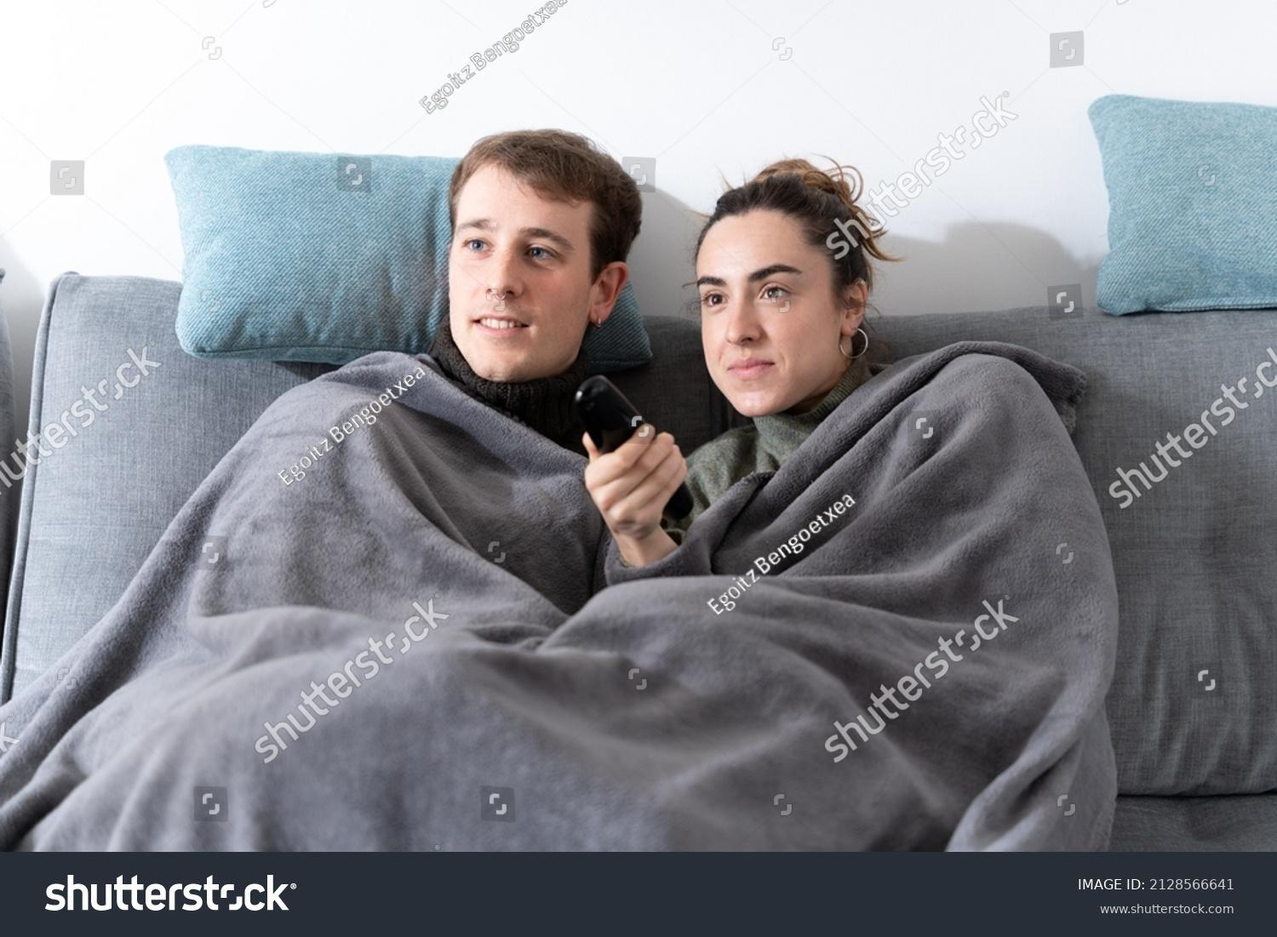blanket: (0, 336, 1128, 859)
